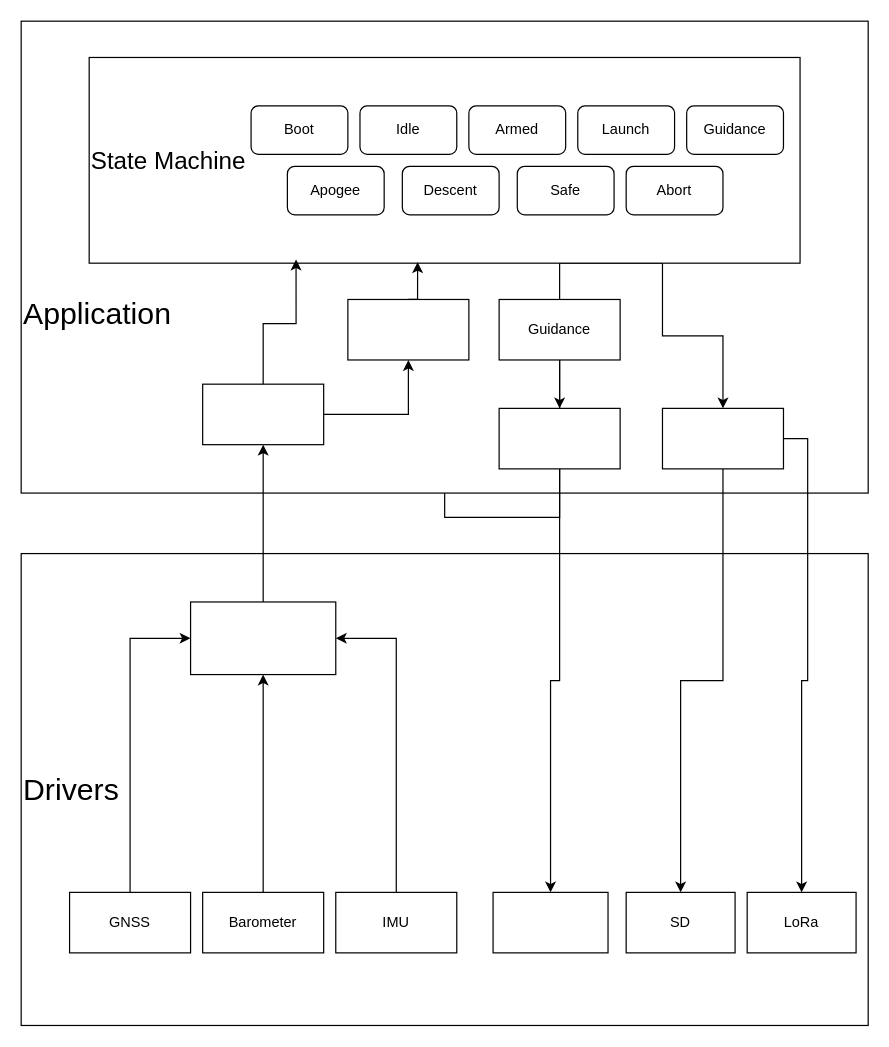
This 889x1047 diagram has some shape labels left out. Here are the shapes that lost their labels. From the top down, the centre of each, then its label:
At point 408,329: "Event Detector".
At point 262,414: "EKF Estimator".
At point 559,438: "Mixer".
At point 722,438: "Logger".
At point 262,638: "Sensor Facade".
At point 550,922: "Servos".
